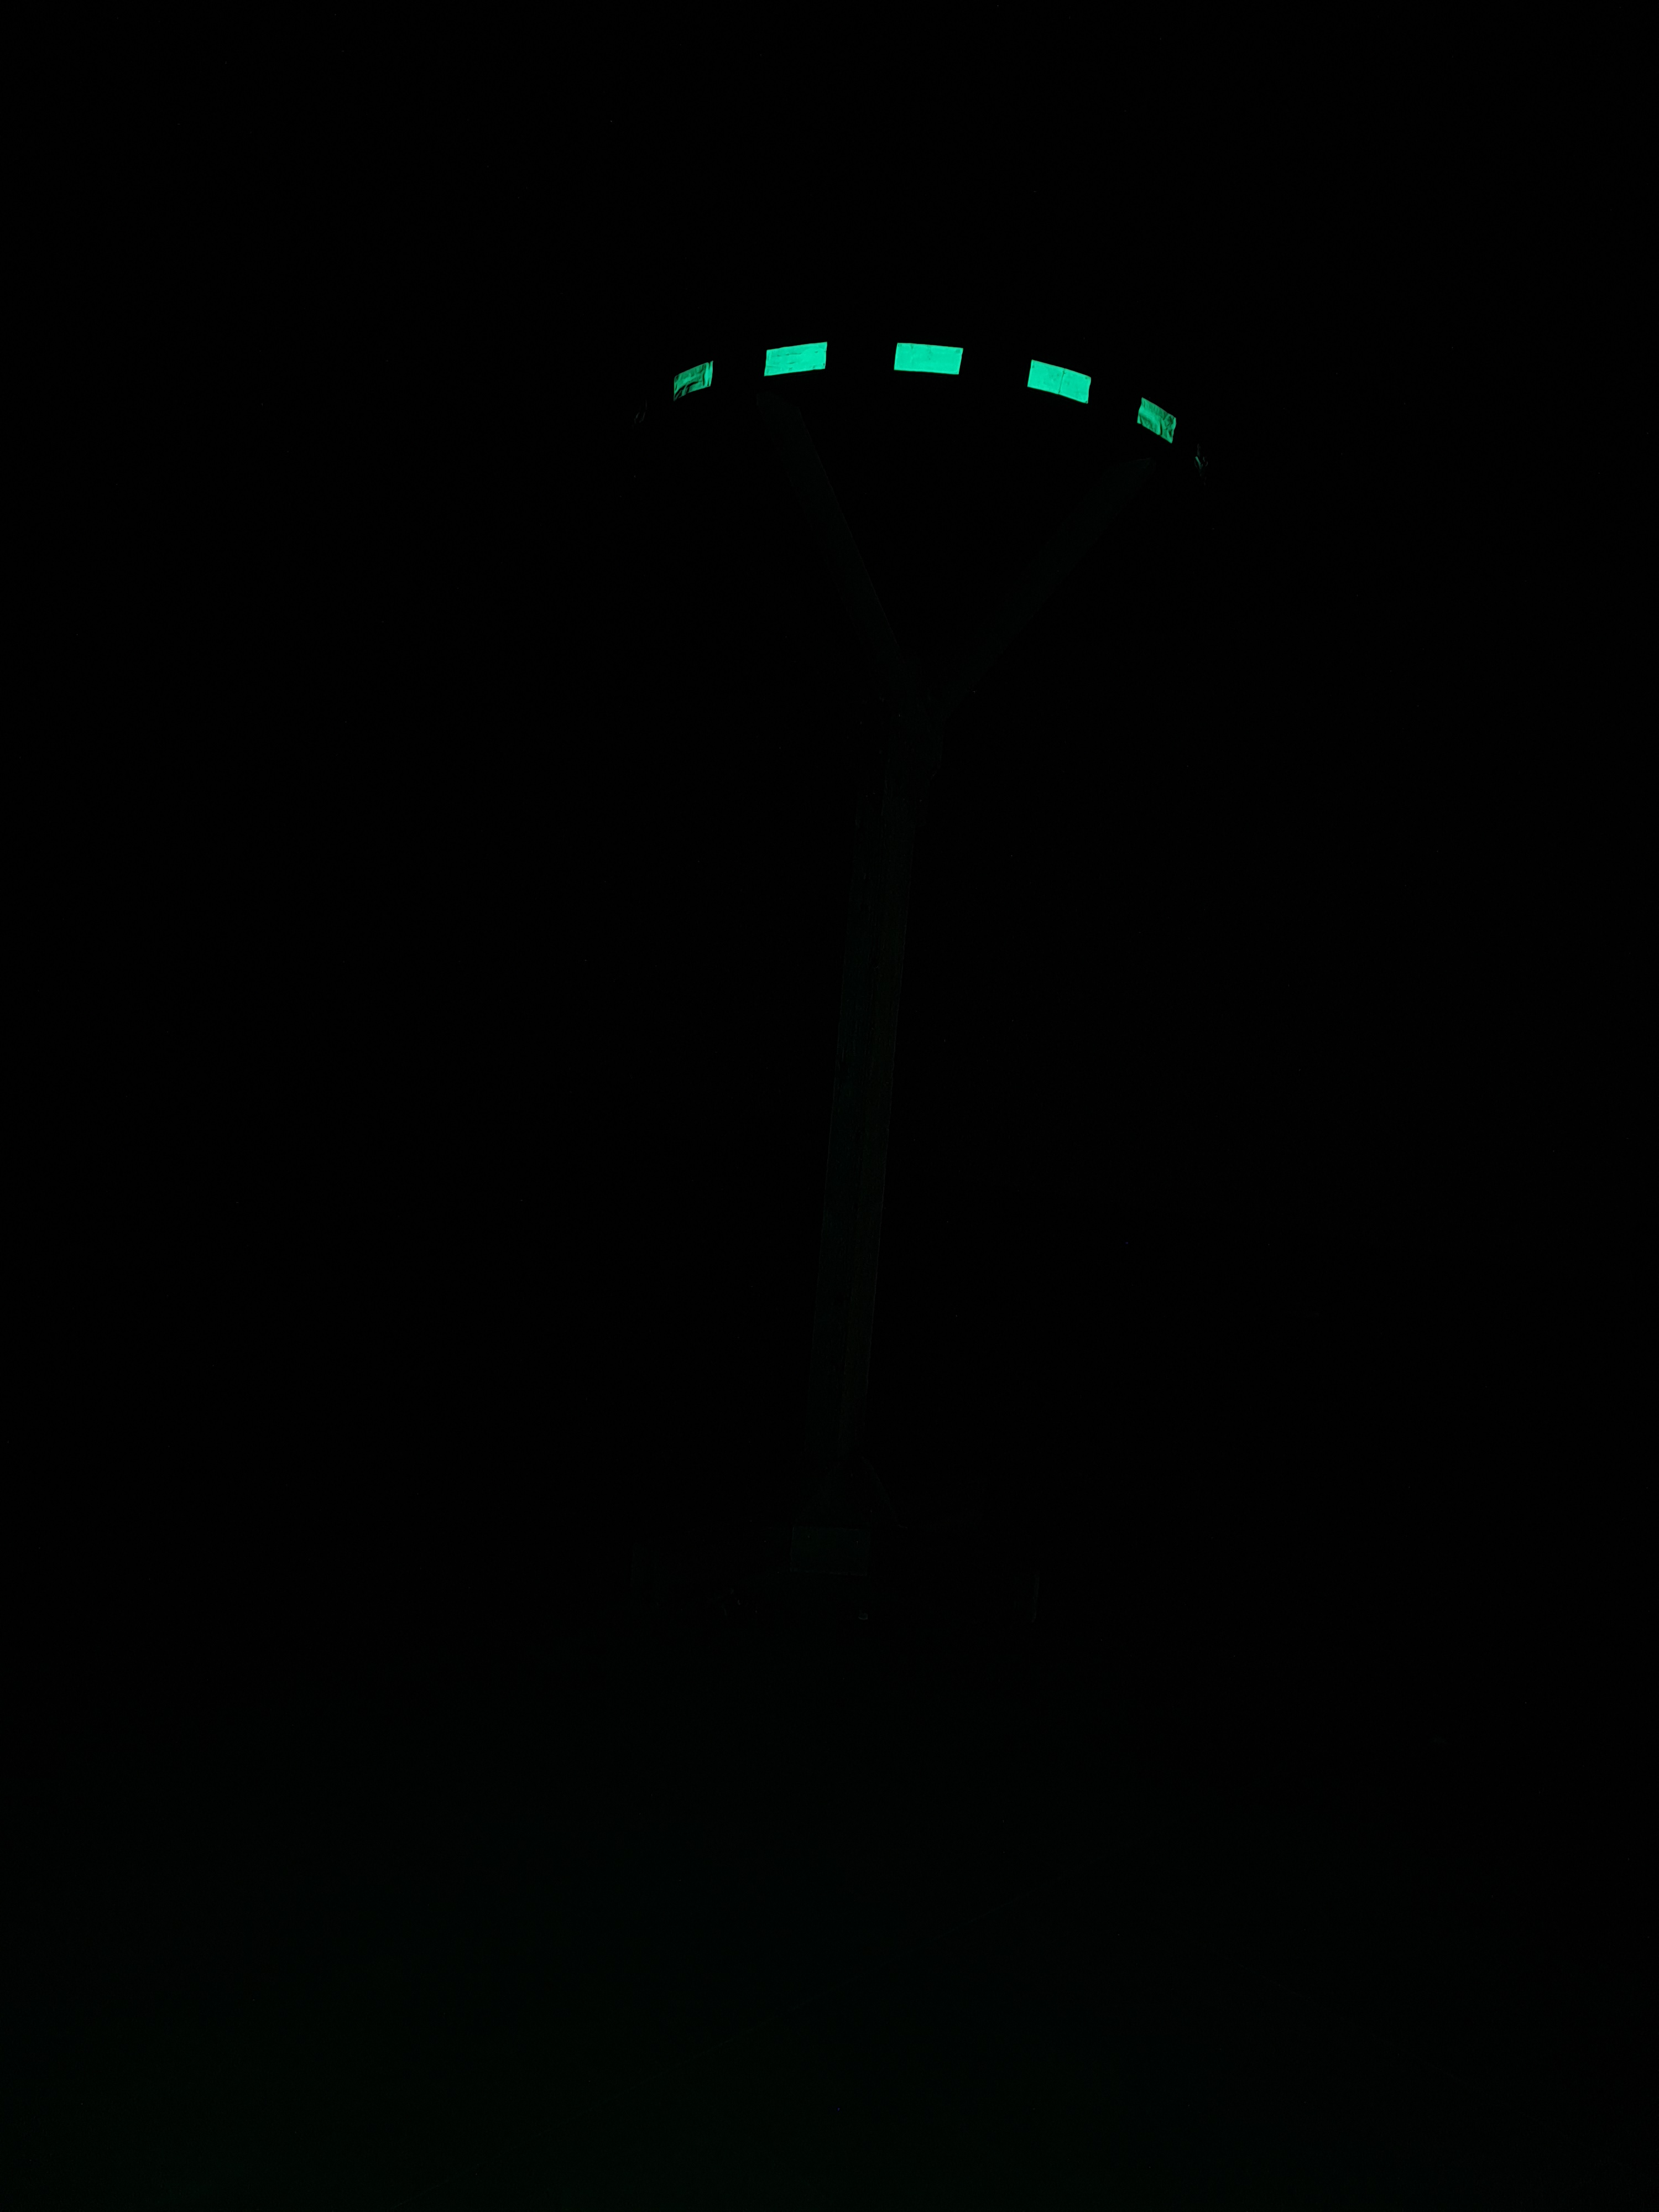hoop: (671, 334, 1178, 446)
